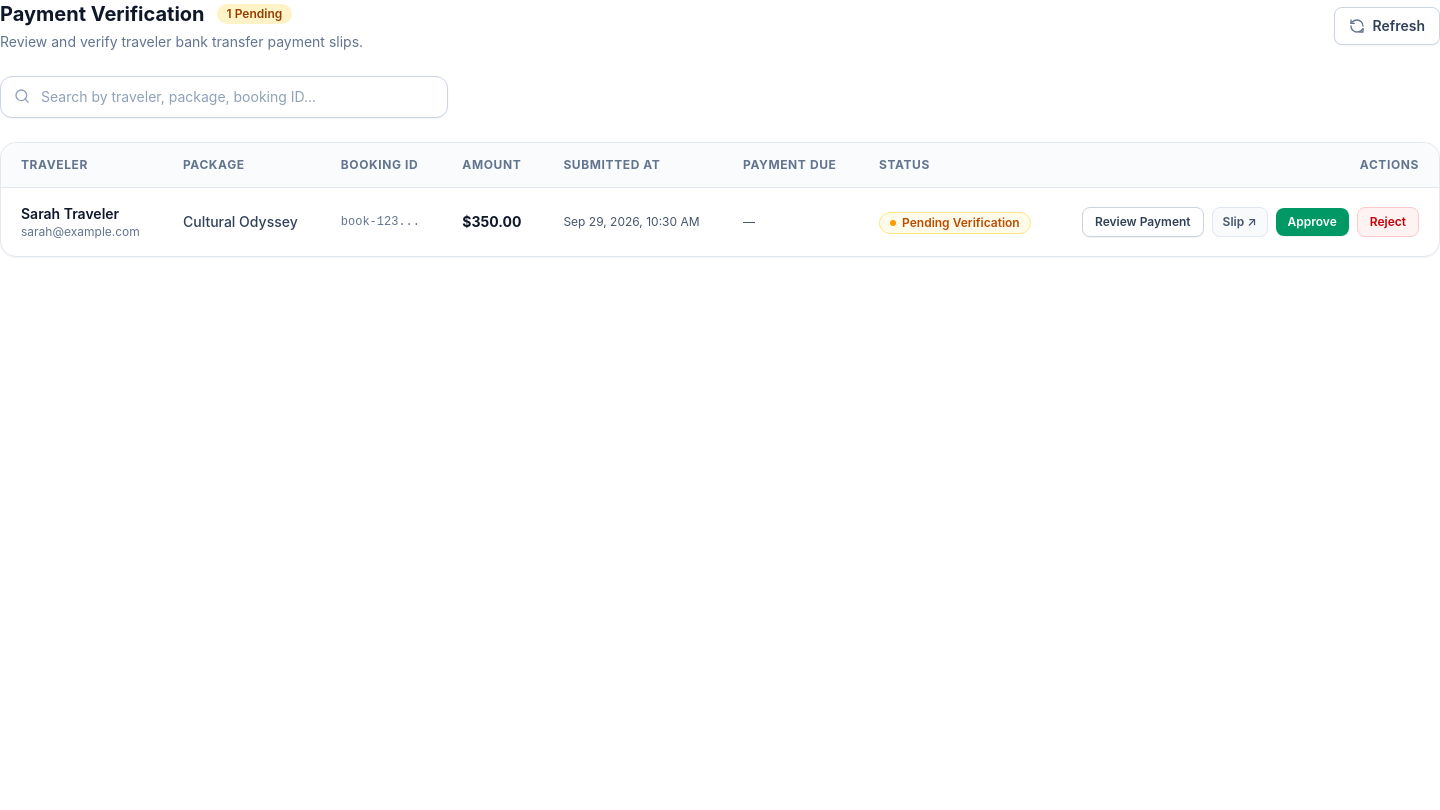
Test: OpsPaymentsPage › removes approved item and shows success banner
The width and height of the screenshot is (1440, 810).
Expected: the text "Sarah Traveler" is shown, [21,205,119,222]
Click the button "Approve". click: (1312, 222)
box: [1276,208,1349,236]
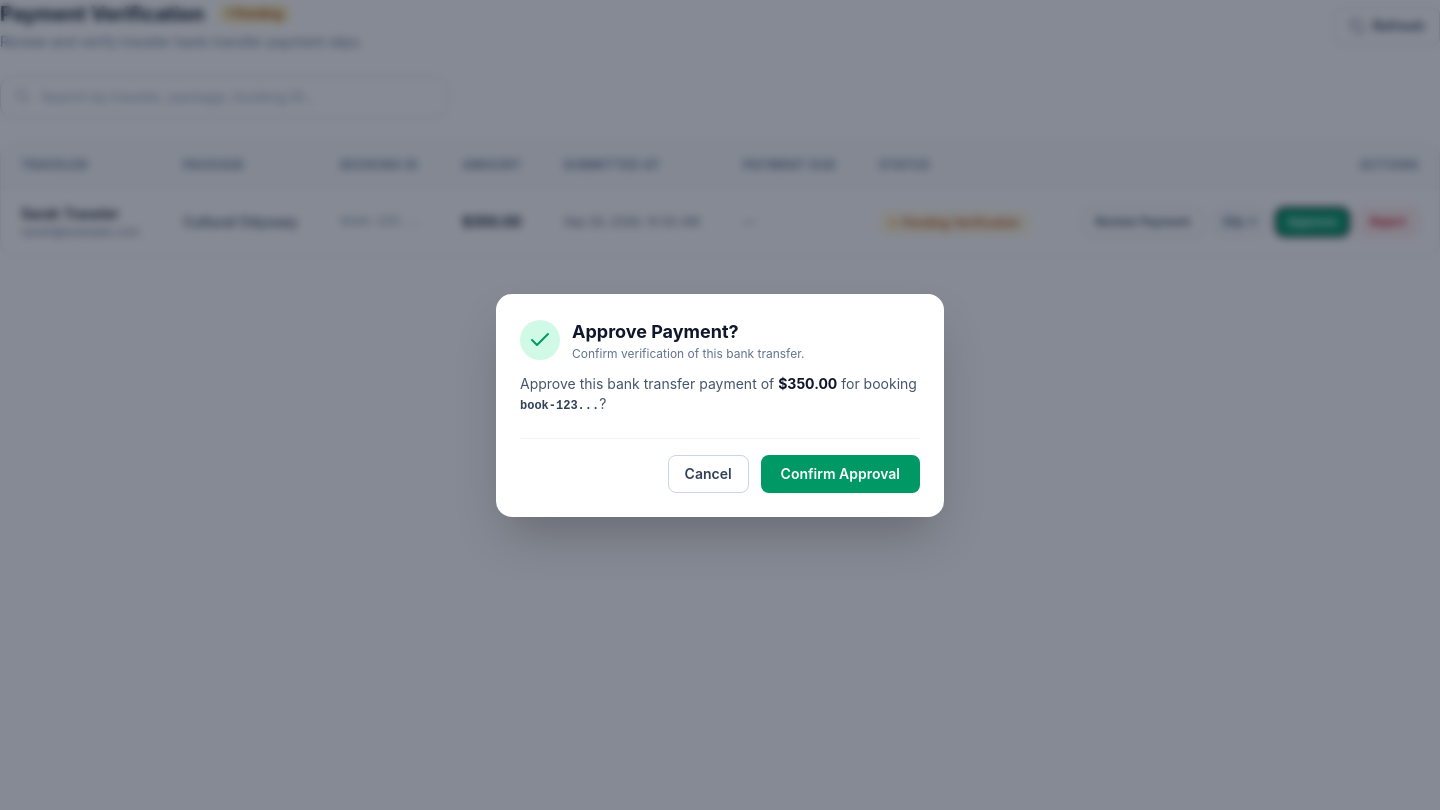
Click the button "Confirm Approval". click: (840, 474)
box: [761,454,920,492]
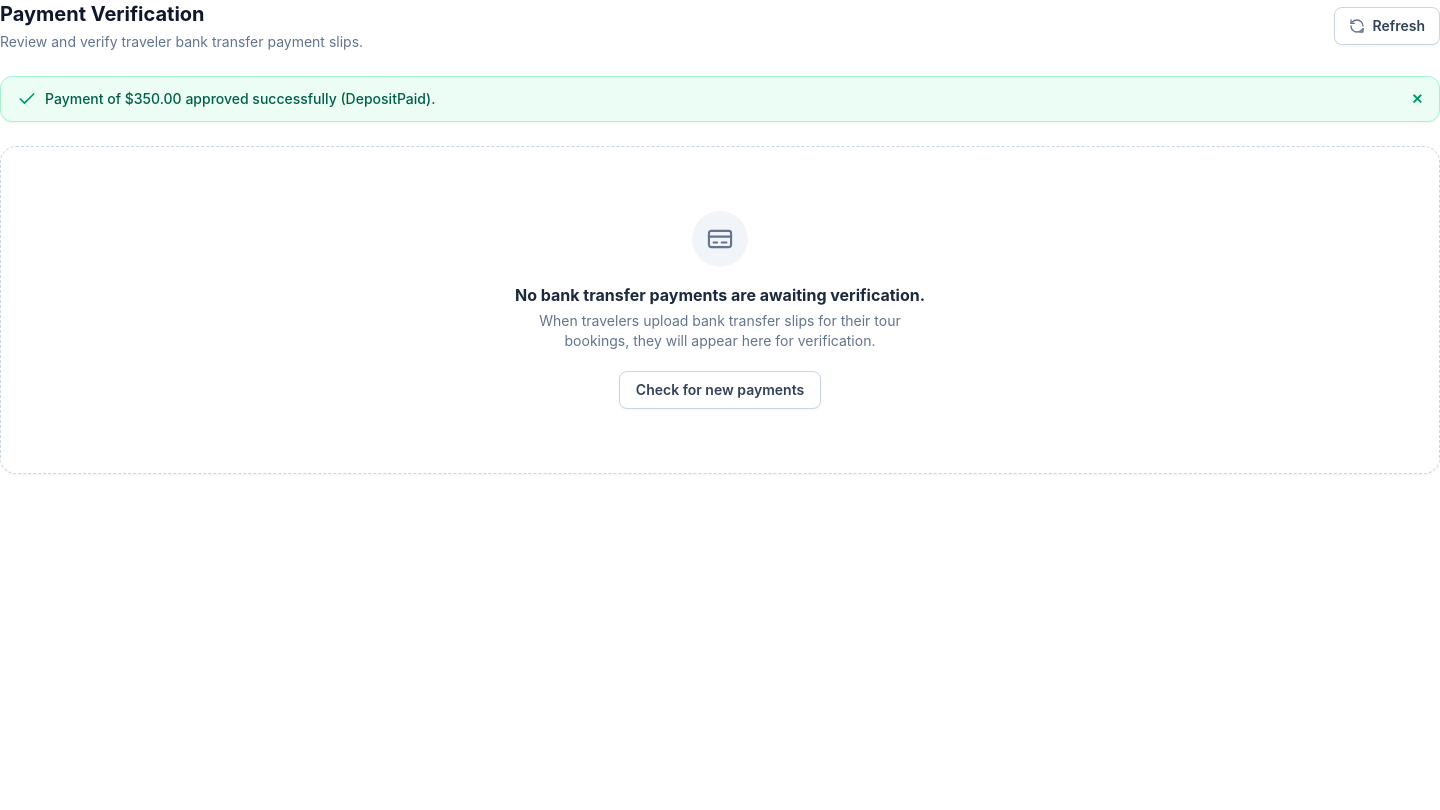
Expected: the text "Sarah Traveler" is gone
Expected: the text "Payment of $350.00 approved successfully (DepositPaid)." is shown, [45,89,436,109]
